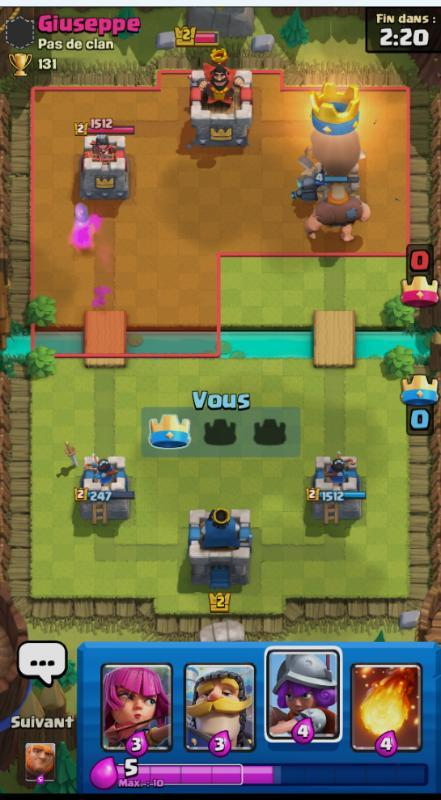player_giant: (301, 177, 373, 244)
player_mini_pekka: (287, 160, 327, 203)
